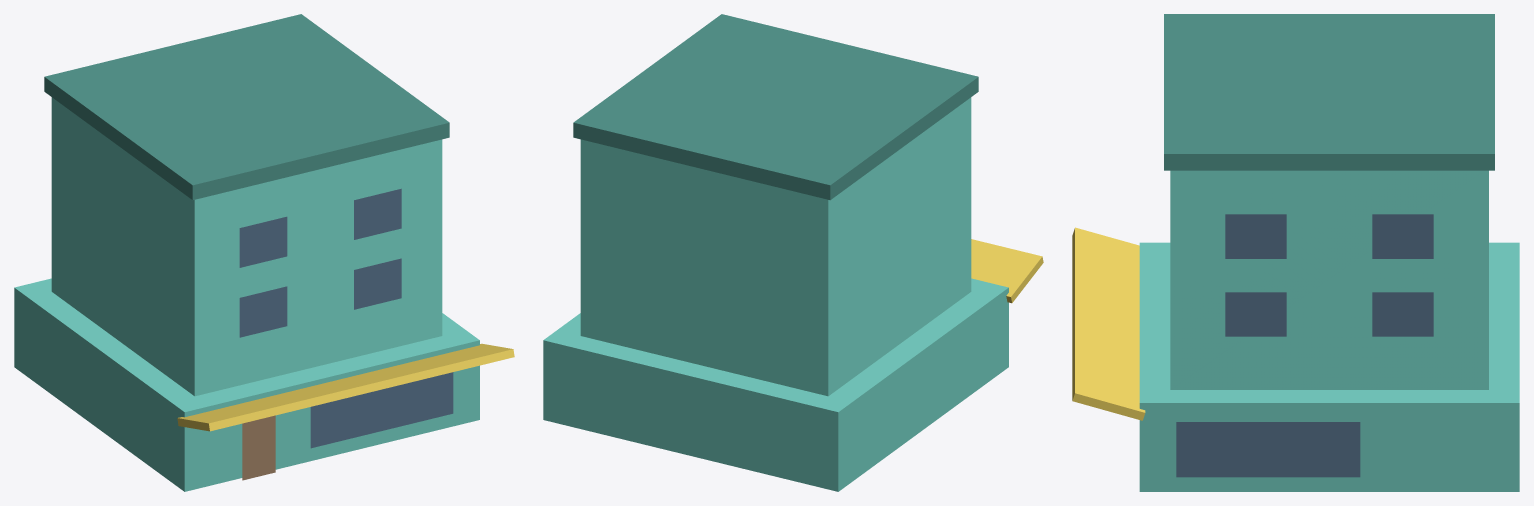
File: corner_store_flats.glb
3 views of the same model, side by side, from view 1: azimuth 30°, elevation 25°; view 2: azimuth 150°, elevation 25°; view 3: azimuth 270°, elevation 25° (orthographic). The views are drawn at different scales.
Parts seen in each view (by area): view 1: corner_store_flats; view 2: corner_store_flats; view 3: corner_store_flats.
Part boxes in pixels (box(x1,y1,x2,y2)): corner_store_flats: box(14, 14, 514, 491); corner_store_flats: box(543, 14, 1043, 491); corner_store_flats: box(1072, 14, 1519, 491).
Bounding box in the file's own units: 0.64 × 0.59 × 0.7295.
